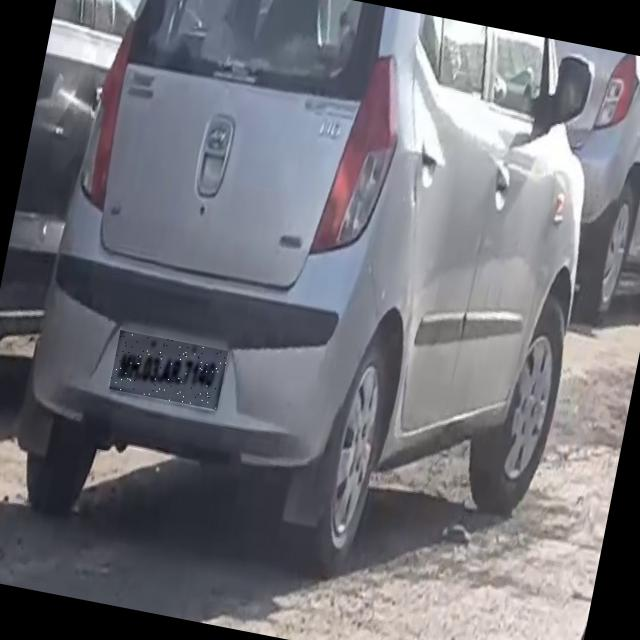Plate: (110, 331, 229, 411)
